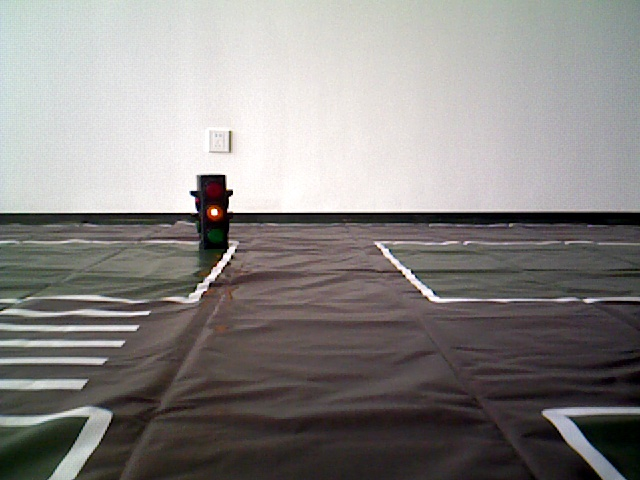yellow: (193, 173, 230, 250)
